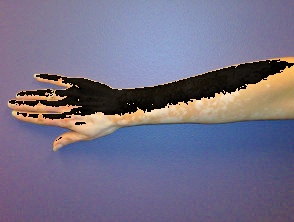vitiligo: (15, 66, 251, 149)
